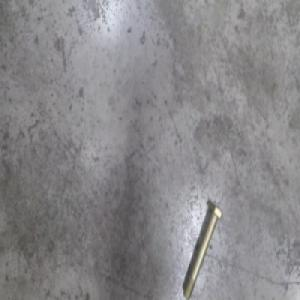Bolt: (182, 204, 223, 299)
